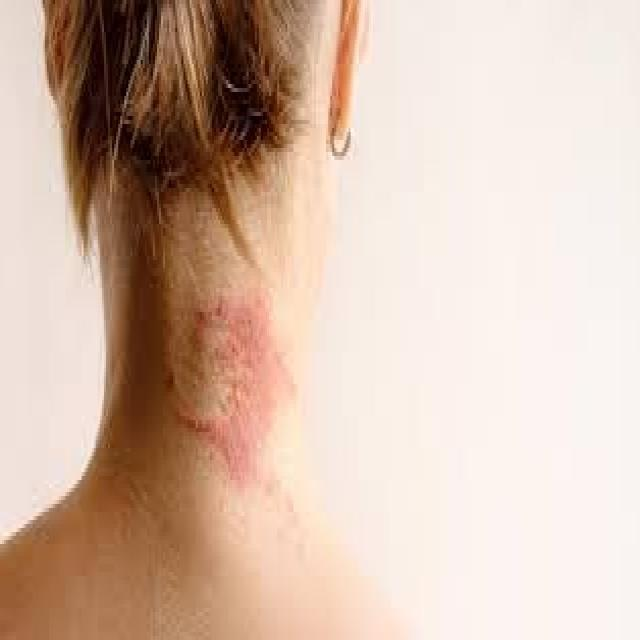Eczema: (179, 305, 299, 470)
